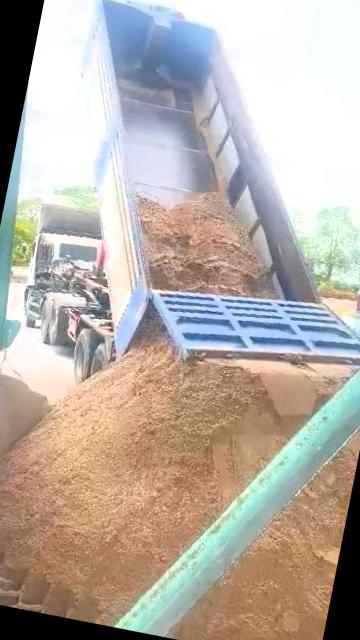sand: (0, 338, 349, 625), (172, 447, 358, 640), (138, 194, 276, 298), (0, 359, 49, 471), (130, 303, 167, 348)
